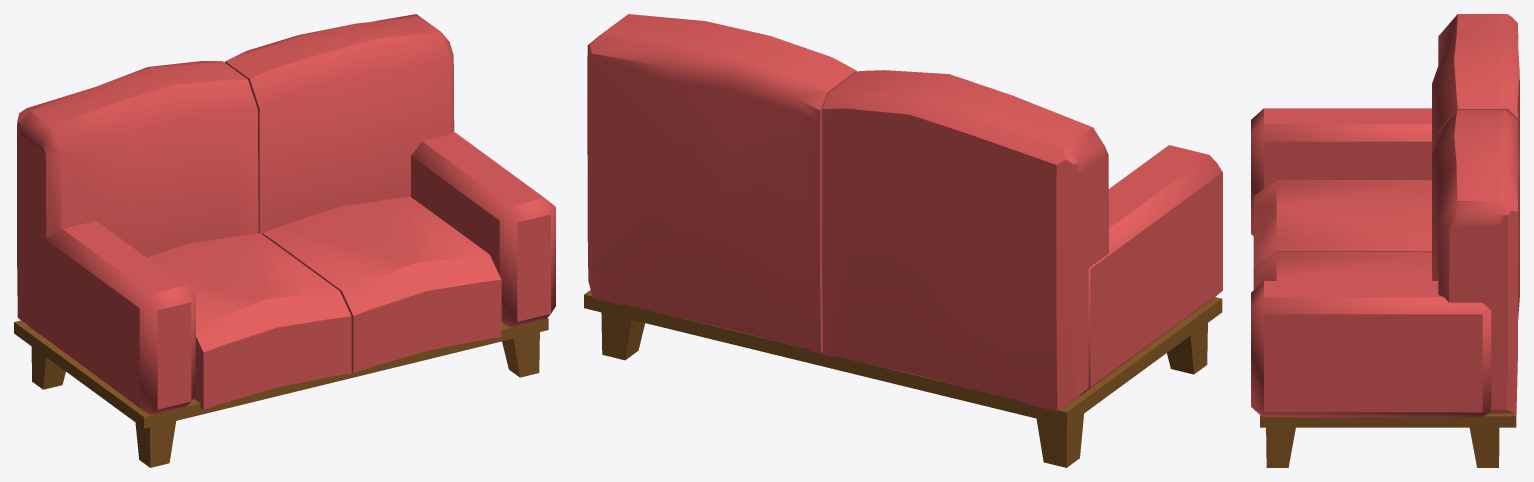
Rendered from Asset01_Sofa.fbx.
3 renders of one model, left to right at view 1: azimuth 30°, elevation 25°; view 2: azimuth 150°, elevation 25°; view 3: azimuth 270°, elevation 25°, orthographic. The views are drawn at different scales.
Parts seen in each view (by area): view 1: Encosto_01, Encosto_02, Almofada_02, Apoio_01, Almofada_01, Apoio_02, Base, Pezinho_04, Pezinho_01, Pezinho_03; view 2: Encosto_01, Encosto_02, Apoio_01, Base, Pezinho_03, Pezinho_02, Pezinho_04; view 3: Apoio_02, Encosto_02, Apoio_01, Almofada_01, Encosto_01, Almofada_02, Base, Pezinho_02, Pezinho_01.
Boxes of the visible parts, x1,y1,x2,y2 form: Encosto_01: (17, 61, 258, 325); Encosto_02: (224, 14, 454, 234); Almofada_02: (262, 197, 501, 372); Apoio_01: (28, 221, 195, 414); Almofada_01: (146, 233, 351, 409); Apoio_02: (411, 131, 555, 326); Base: (14, 317, 548, 428); Pezinho_04: (135, 421, 176, 467); Pezinho_01: (502, 332, 539, 377); Pezinho_03: (31, 347, 65, 389); Encosto_01: (822, 70, 1109, 411); Encosto_02: (587, 14, 857, 353); Apoio_01: (1079, 145, 1222, 395); Base: (584, 290, 1222, 425); Pezinho_03: (1036, 414, 1083, 467); Pezinho_02: (601, 312, 644, 360); Pezinho_04: (1167, 323, 1207, 374); Apoio_02: (1251, 281, 1491, 417); Encosto_02: (1432, 110, 1519, 413); Apoio_01: (1251, 108, 1431, 235); Almofada_01: (1253, 180, 1431, 267); Encosto_01: (1432, 14, 1519, 154); Almofada_02: (1253, 252, 1431, 289); Base: (1260, 413, 1516, 427); Pezinho_02: (1469, 427, 1499, 467); Pezinho_01: (1266, 427, 1295, 467).
Size of the model in its own units: 182 by 119 by 103.
